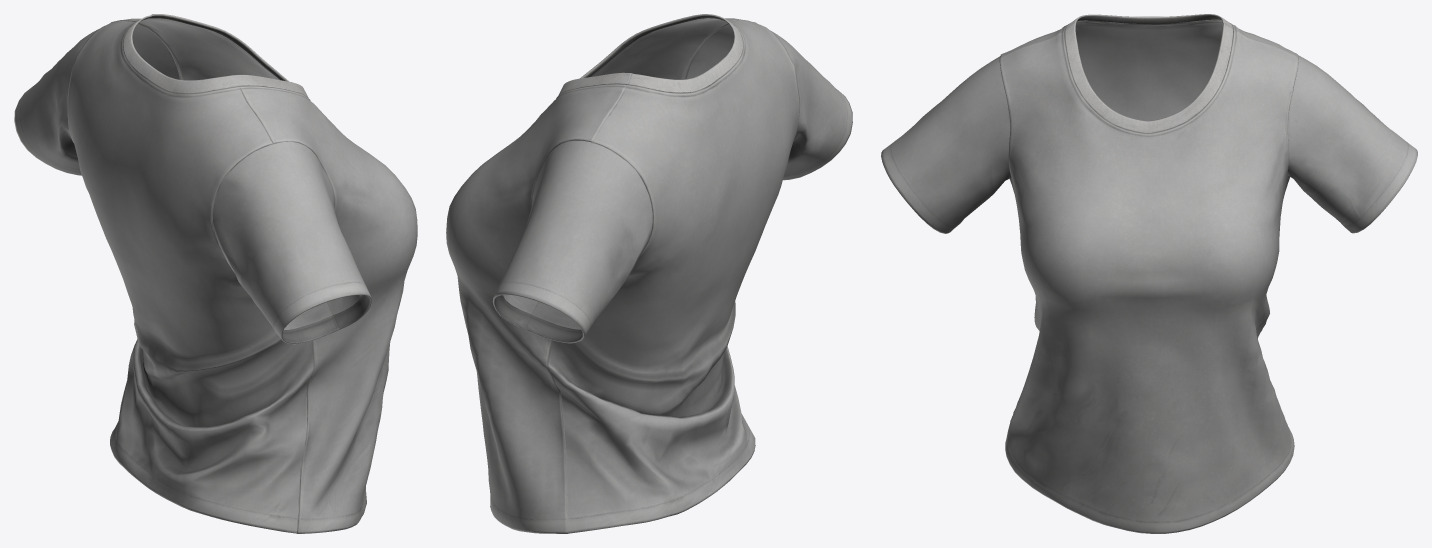
The model's file is female t-shirt.glb.
3 renders of one model, left to right at view 1: azimuth 30°, elevation 25°; view 2: azimuth 150°, elevation 25°; view 3: azimuth 270°, elevation 25°, orthographic. The views are drawn at different scales.
Visible parts, largest first — view 1: Object_2; view 2: Object_2; view 3: Object_2.
Part boxes in pixels (bbox=[...]): Object_2: bbox=[14, 14, 417, 533]; Object_2: bbox=[446, 14, 852, 533]; Object_2: bbox=[881, 14, 1417, 533].
Bounding box in the file's own units: 0.5156 × 0.9271 × 1.03.
Materials: 1 (1 with a texture image).
